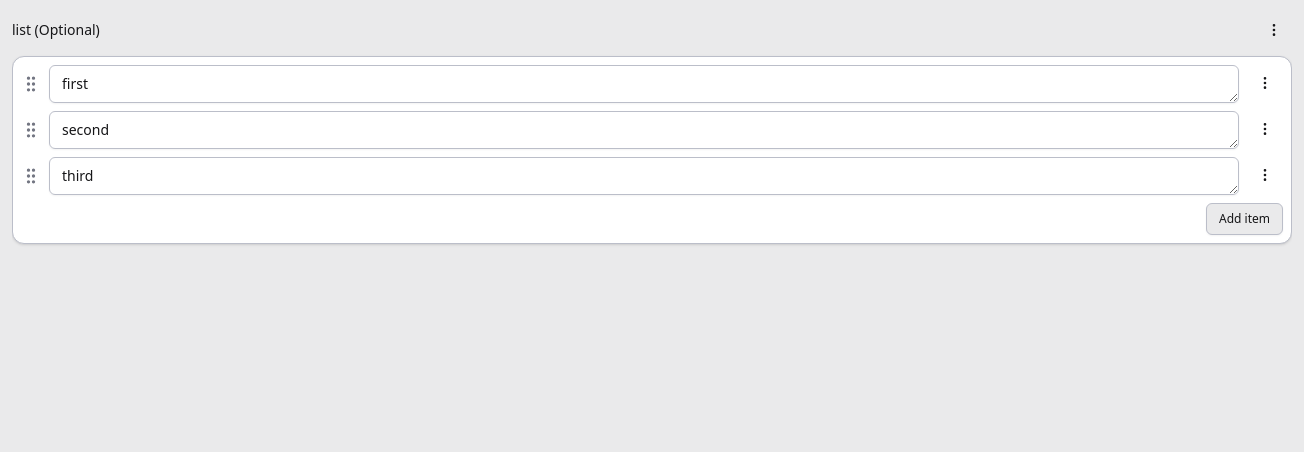
Scenario: SchemaFormInputArrayList › move to top/bottom menu options › does not show 'Move to bottom' for last item
This screenshot has width=1304, height=452.
Note: Click the last array item's menu (index 3 - after property menu and two item menus)
Click the 4th button named "open menu". click: (1265, 175)
box: [1247,157,1283,193]
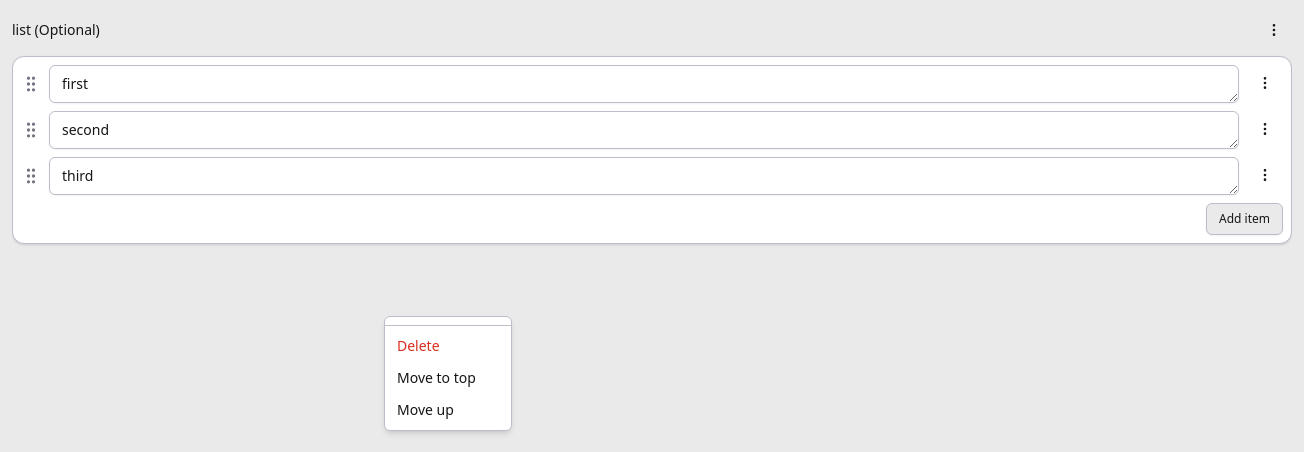
Now the menu item "Delete" is shown, box [397,336,440,355]
